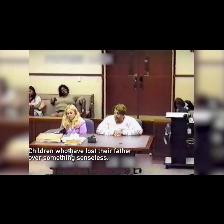person: (97, 104, 142, 136), (51, 85, 83, 117), (61, 105, 87, 134), (29, 86, 41, 106), (174, 98, 187, 112), (185, 101, 194, 110)
